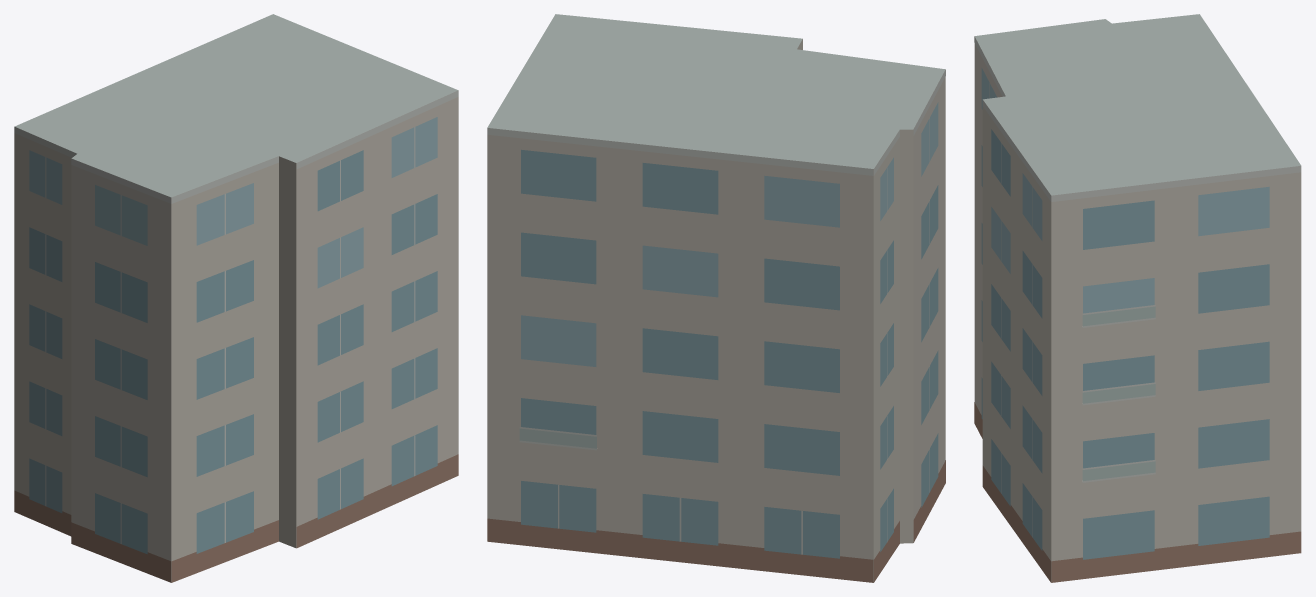
The model's file is survey-upis-32858271.glb.
3 renders of one model, left to right at view 1: azimuth 30°, elevation 25°; view 2: azimuth 150°, elevation 25°; view 3: azimuth 270°, elevation 25°, orthographic. The views are drawn at different scales.
Parts seen in each view (by area): view 1: survey-upis-32858271.tmp; view 2: survey-upis-32858271.tmp; view 3: survey-upis-32858271.tmp.
Part boxes in pixels (left/top/right/bottom): survey-upis-32858271.tmp: left=14, top=14, right=458, bottom=582; survey-upis-32858271.tmp: left=487, top=14, right=945, bottom=582; survey-upis-32858271.tmp: left=974, top=14, right=1301, bottom=582.
Size of the model in its own units: 14.69 by 14.6 by 11.18.
